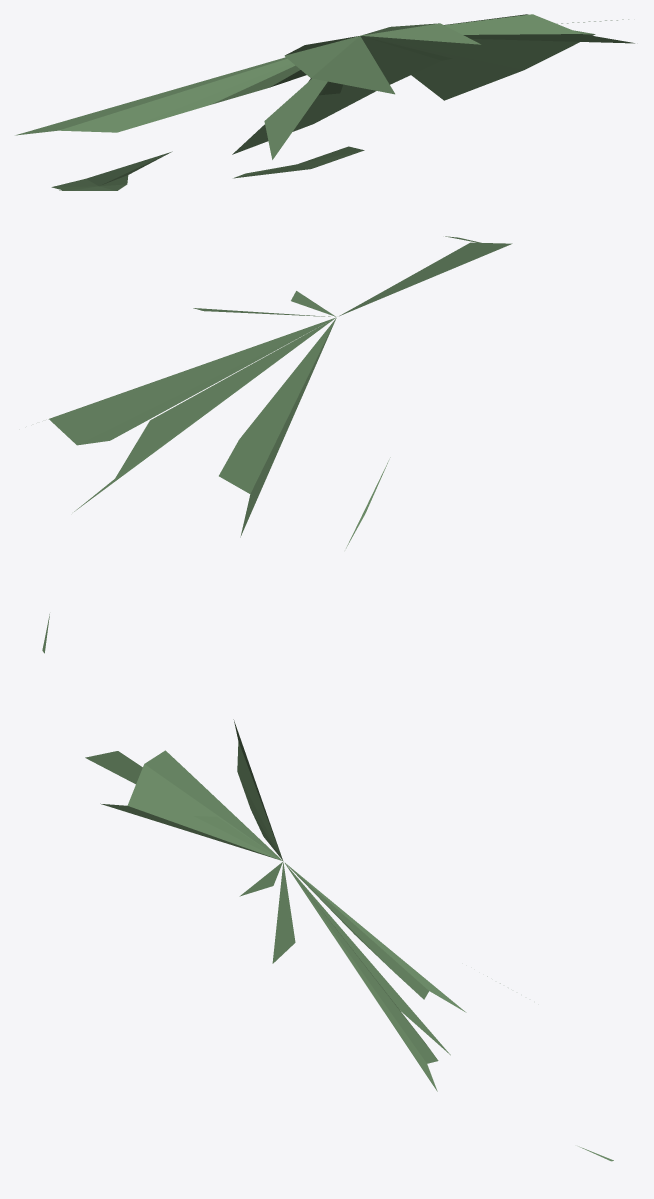
The model's file is c_1666_17819_forest.glb.
The picture shows the model from 3 angles, top to bottom: view 1: azimuth 30°, elevation 25°; view 2: azimuth 150°, elevation 25°; view 3: azimuth 270°, elevation 25°; orthographic projection. The views are drawn at different scales.
Parts seen in each view (by area): view 1: geometry_0; view 2: geometry_0; view 3: geometry_0.
Part boxes in pixels (x1,y1,x2,y2): geometry_0: [15, 14, 634, 190]; geometry_0: [42, 236, 512, 653]; geometry_0: [85, 719, 613, 1161].
Size of the model in its own units: 228 by 134 by 244.
